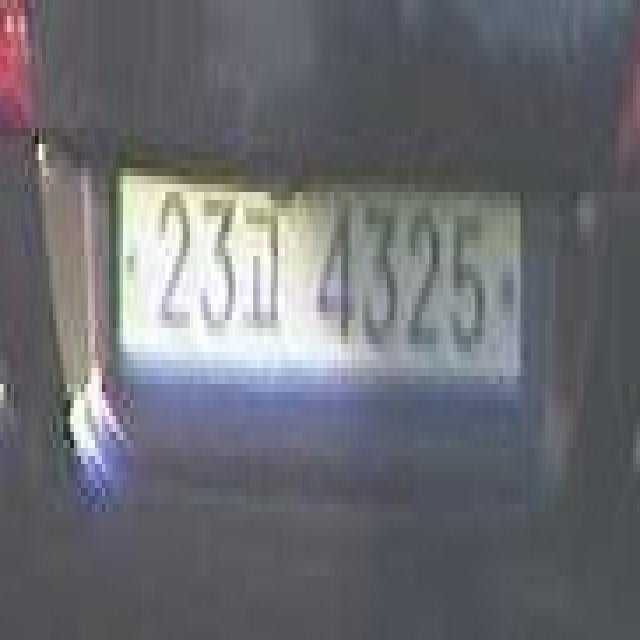2: (148, 182, 194, 342), (403, 191, 445, 366)
3: (196, 187, 239, 335), (362, 190, 401, 352)
4: (309, 193, 358, 345)
5: (448, 196, 494, 362)
go: (243, 194, 286, 343)
license_plate: (122, 165, 522, 388)
